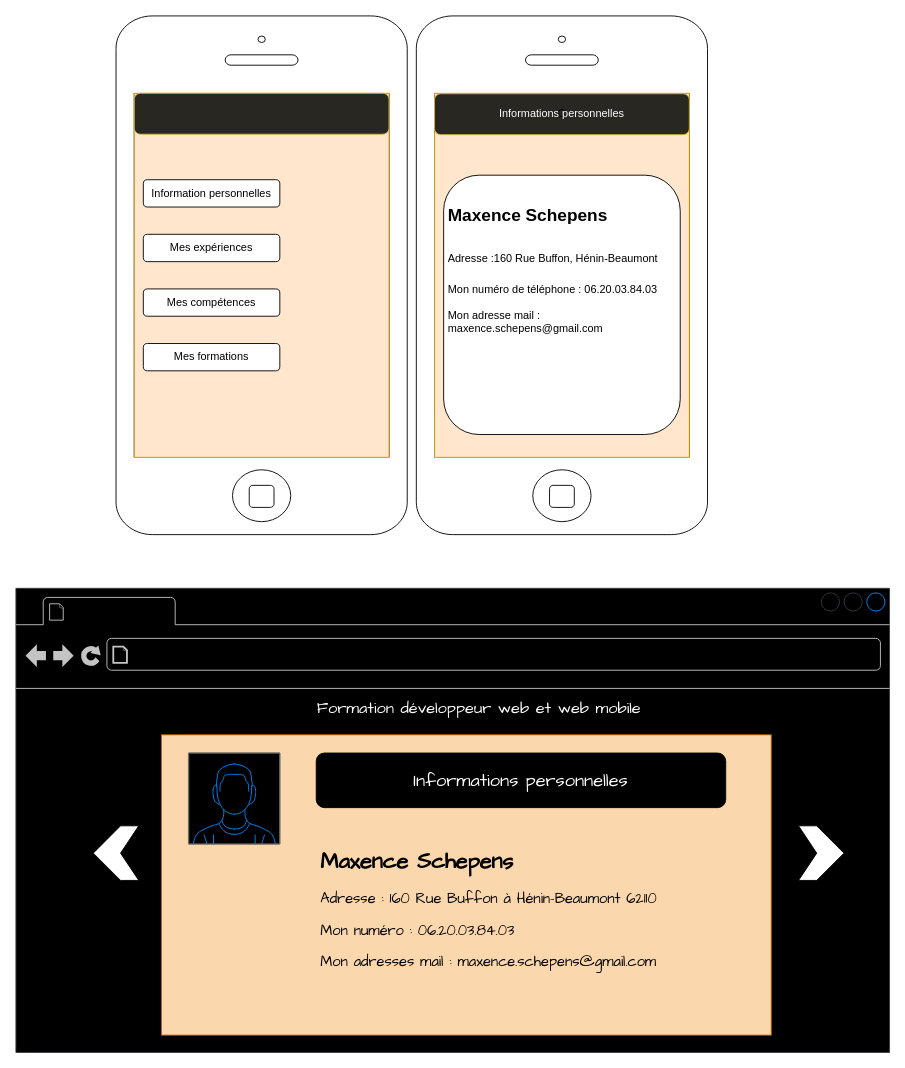
This 905x1068 diagram has some shape labels left out. The shapes that lost their labels are listed below. From the top down, each one's centre as x and y in pixels, then its label:
At point (261, 113): "Formation développeur wet et web mobile".
At point (116, 610): "Cv Maxence".
At point (247, 654): "https://www.draw.io".
